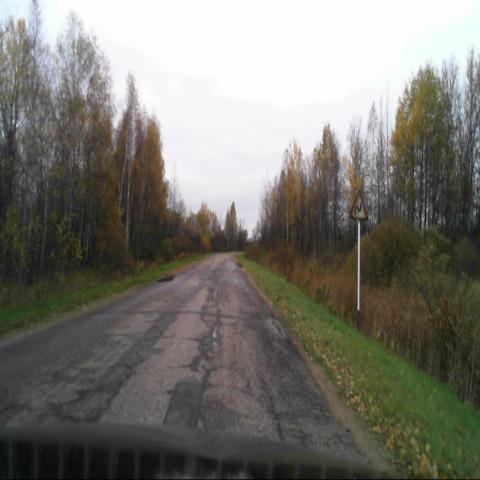1_12: (350, 189, 368, 220)
